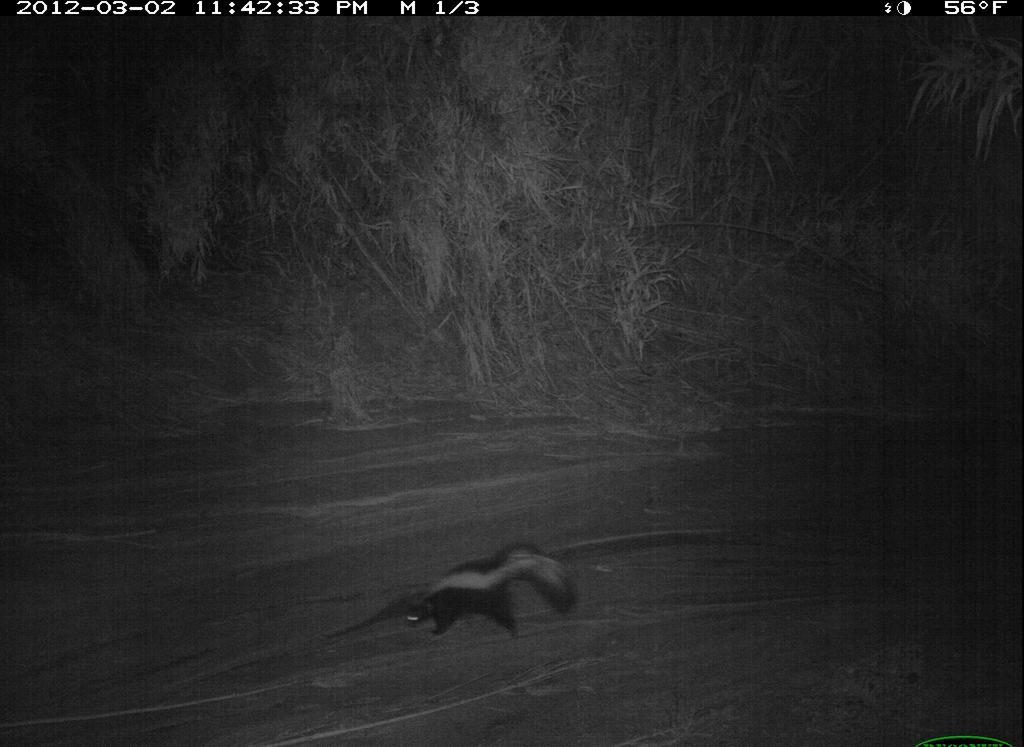skunk: (376, 529, 594, 660)
